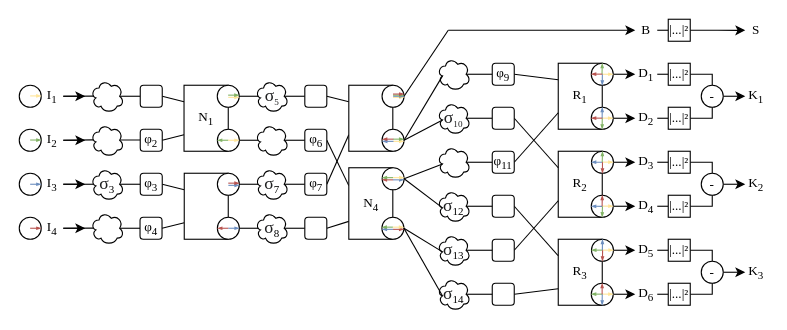
Some shapes in this 787 by 330 pixel diagram are drawn without their labels. Here are the shapes that lost their labels. From the top down, the centre of each, then its label:
At pixel 453 74: "σ 9".
At pixel 107 96: "σ 1".
At pixel 150 95: "φ 1".
At pixel 315 95: "φ 5".
At pixel 370 117: "N 3".
At pixel 502 117: "φ 10".
At pixel 107 140: "σ 2".
At pixel 271 140: "σ 6".
At pixel 453 162: "σ 11".
At pixel 205 205: "N 2".
At pixel 502 205: "φ 12".
At pixel 107 228: "σ 4".
At pixel 315 227: "φ 8".
At pixel 502 249: "φ 13".
At pixel 502 293: "φ 14".
